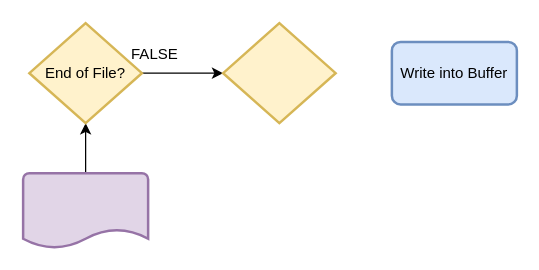
The diagram is 539 pixels wide and 270 high, and some of its shapes have lost their labels. The centre of each missing label's shape, as x and y in pixels:
"Enough Buf space to read a chunk?" goes at point 278,72.
"Novatel Data File" goes at point 85,210.
